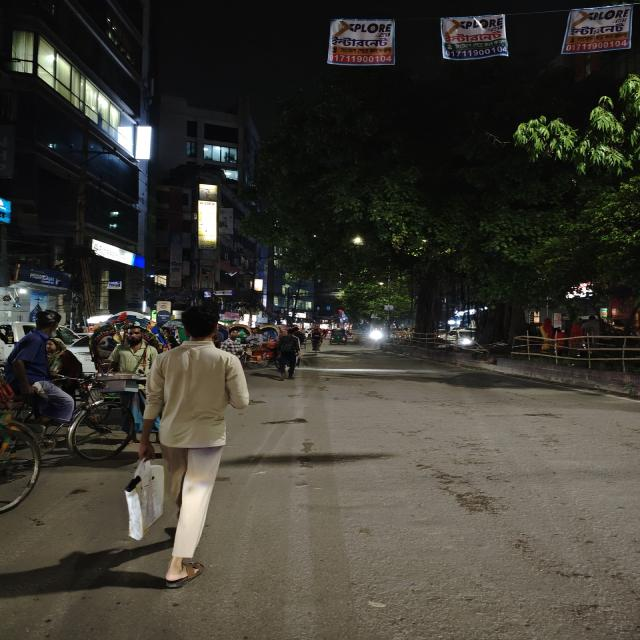bicycle: (309, 329, 324, 361)
pedestrian: (135, 315, 257, 610), (272, 331, 300, 381)
rickshaw: (2, 303, 142, 469), (0, 310, 41, 529), (328, 328, 354, 346)
